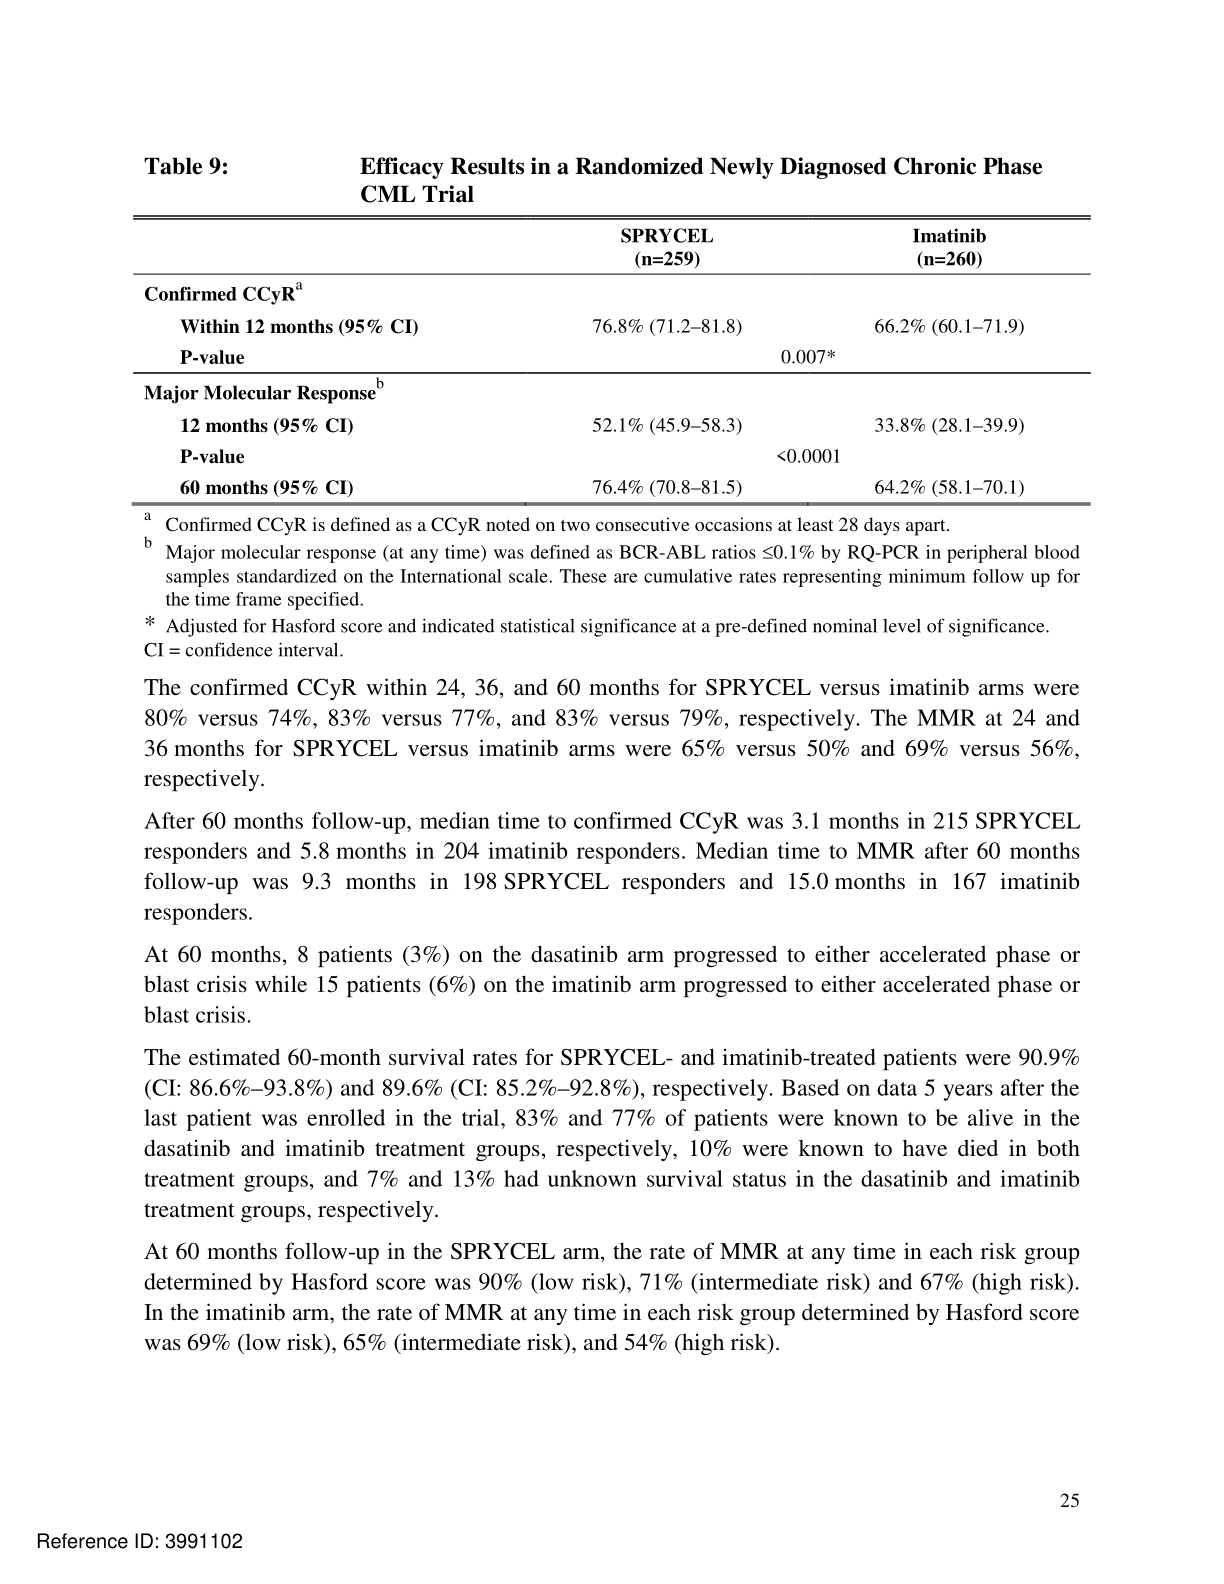partial_lined_merged_cells: (130, 213, 1093, 508)
